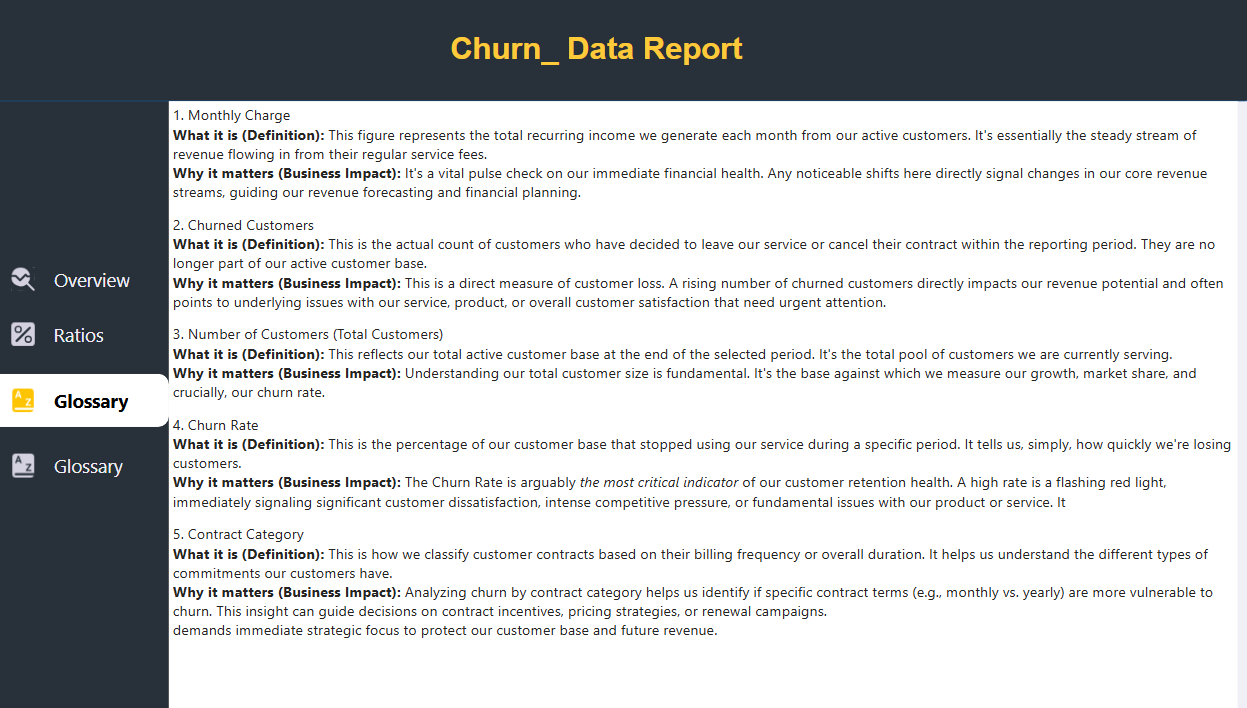

The page's visual inventory and layout, read from the dashboard file:
{"tool":"powerbi","page":{"name":"Glossary","canvas":[1640,960],"ordinal":2},"visuals":[{"type":"shape","box":[0,110.6,233.1,849.1],"z":0},{"type":"actionButton","title":"Glossary","box":[0,574.1,232.7,69.1],"z":0,"group":"g1"},{"type":"shape","box":[0,0,1640.3,137.8],"z":1000},{"type":"actionButton","title":"Glossary","box":[0,489.9,232.7,68.8],"z":1000,"group":"g1"},{"type":"actionButton","title":"Overview_active","box":[0,332.9,232.7,68.8],"z":2000,"group":"g1"},{"type":"map","fields":{"Category":["Databel - Data.State"],"Size":["Databel - Data.Churn Rate"]},"box":[0,1014,959.1,626.5],"z":2000},{"type":"actionButton","title":"Ratios","box":[0,409.5,232.7,60.2],"z":3000,"group":"g1"},{"type":"textbox","box":[232.7,137.4,1381.8,796.7],"z":9000},{"type":"group","id":"g1","title":"Group 1","box":[0,332.9,232.7,310.3],"z":10001}]}

Visuals, with their boxes on the page's 1640x960 design canvas (x1, y1, x2, y2). These are canvas units, not pixel positions in the 1247x708 screenshot, which may show the page scaled, cropped or inside an application window:
shape: crop(0, 111, 233, 960)
"Glossary" actionButton: crop(0, 574, 233, 643)
shape: crop(0, 0, 1640, 138)
"Glossary" actionButton: crop(0, 490, 233, 559)
"Overview_active" actionButton: crop(0, 333, 233, 402)
map - Databel - Data.State x Databel - Data.Churn Rate: crop(0, 1014, 959, 1640)
"Ratios" actionButton: crop(0, 410, 233, 470)
textbox: crop(233, 137, 1614, 934)
"Group 1" group: crop(0, 333, 233, 643)
